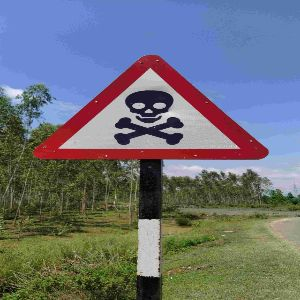Accident prone area: (24, 48, 275, 173)
